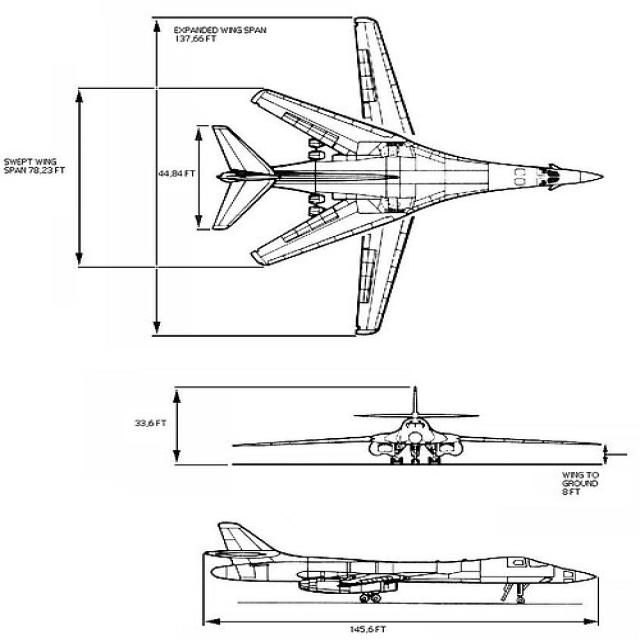B1: (167, 4, 622, 344), (197, 501, 640, 632), (203, 359, 639, 492)
